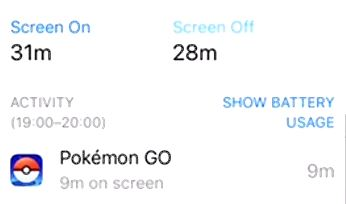activity: (5, 92, 113, 135)
app: (3, 144, 339, 200)
